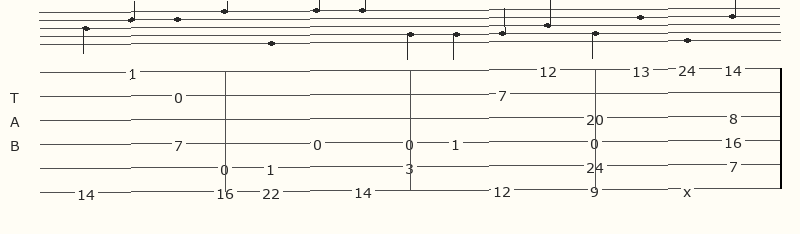0: (174, 87, 187, 101), (220, 159, 233, 173), (313, 135, 326, 149), (405, 135, 418, 149), (590, 135, 603, 149)
1: (128, 63, 141, 77), (266, 159, 279, 173), (451, 135, 464, 149)
12: (493, 183, 515, 197), (539, 63, 561, 77)
13: (632, 63, 654, 77)
14: (77, 183, 99, 197), (354, 183, 376, 197), (724, 63, 746, 77)
16: (216, 183, 238, 197), (724, 135, 746, 149)
20: (586, 111, 608, 125)
22: (262, 183, 284, 197)
24: (586, 159, 608, 173), (678, 63, 700, 77)
3: (405, 159, 418, 173)
7: (174, 135, 187, 149), (498, 87, 511, 101), (729, 159, 742, 173)
8: (729, 111, 742, 125)
9: (590, 183, 603, 197)
x: (683, 184, 695, 196)
